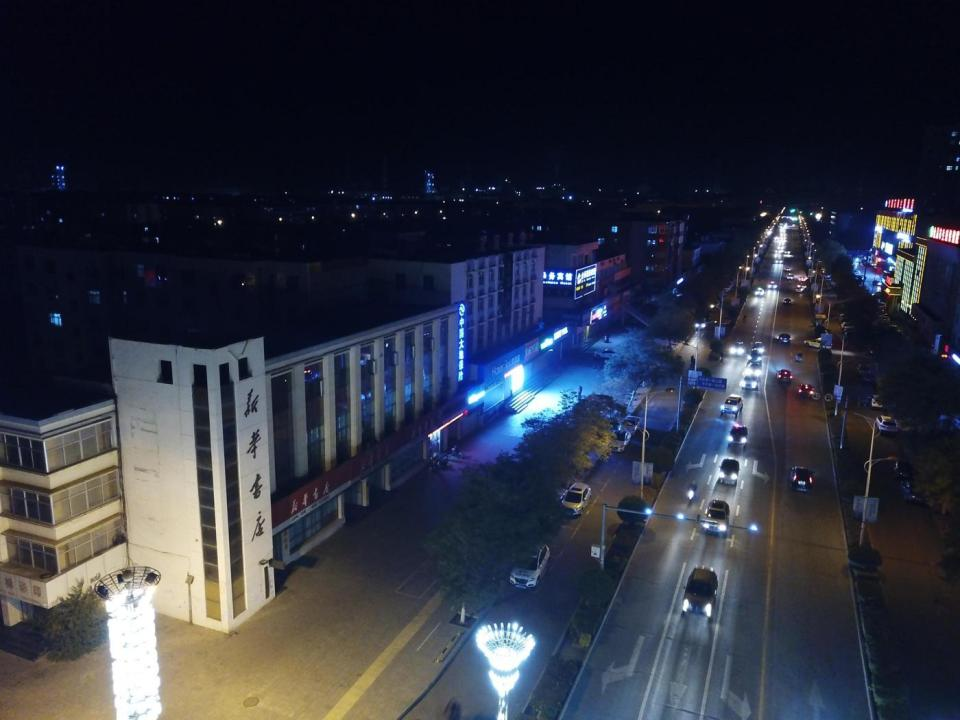car: (509, 541, 550, 590), (560, 482, 590, 515), (703, 499, 729, 536), (790, 465, 815, 492), (900, 479, 926, 503), (718, 458, 738, 487), (722, 393, 744, 418), (608, 429, 631, 451), (728, 424, 748, 445), (621, 415, 641, 435), (895, 460, 916, 479), (875, 416, 898, 432), (803, 337, 832, 349), (741, 374, 759, 390), (594, 349, 621, 359), (870, 394, 885, 410), (798, 383, 814, 397), (748, 349, 762, 362), (729, 342, 744, 354), (776, 369, 792, 380), (858, 363, 871, 375), (707, 298, 719, 310), (864, 375, 878, 384), (695, 318, 706, 329), (778, 333, 790, 342), (841, 322, 854, 330), (867, 345, 878, 354), (754, 342, 764, 351), (767, 280, 778, 288), (844, 327, 855, 335), (839, 314, 850, 322), (721, 284, 729, 292), (755, 288, 763, 296), (872, 280, 883, 285), (673, 290, 682, 296), (872, 291, 881, 297), (783, 298, 792, 303), (726, 280, 733, 286), (738, 262, 744, 269), (775, 258, 782, 264), (796, 285, 802, 292), (888, 324, 896, 329), (784, 266, 790, 272), (788, 273, 794, 279), (800, 282, 806, 288), (828, 284, 834, 290), (824, 274, 831, 279), (877, 309, 885, 313), (826, 277, 832, 282), (878, 313, 888, 316), (826, 280, 833, 284), (856, 276, 863, 280), (820, 262, 826, 266), (852, 270, 860, 273), (846, 252, 852, 256), (774, 249, 781, 252), (775, 236, 780, 240), (799, 276, 804, 280), (821, 267, 826, 271), (784, 250, 790, 253), (778, 245, 784, 248), (781, 236, 787, 239), (823, 270, 829, 273), (818, 260, 824, 263), (854, 272, 858, 276), (852, 266, 856, 270), (779, 240, 784, 243), (852, 259, 857, 262), (858, 253, 863, 256), (782, 232, 785, 236), (780, 228, 784, 231), (852, 262, 856, 265), (792, 224, 796, 226)
van: (682, 566, 717, 617), (874, 301, 886, 308), (876, 316, 889, 321)
